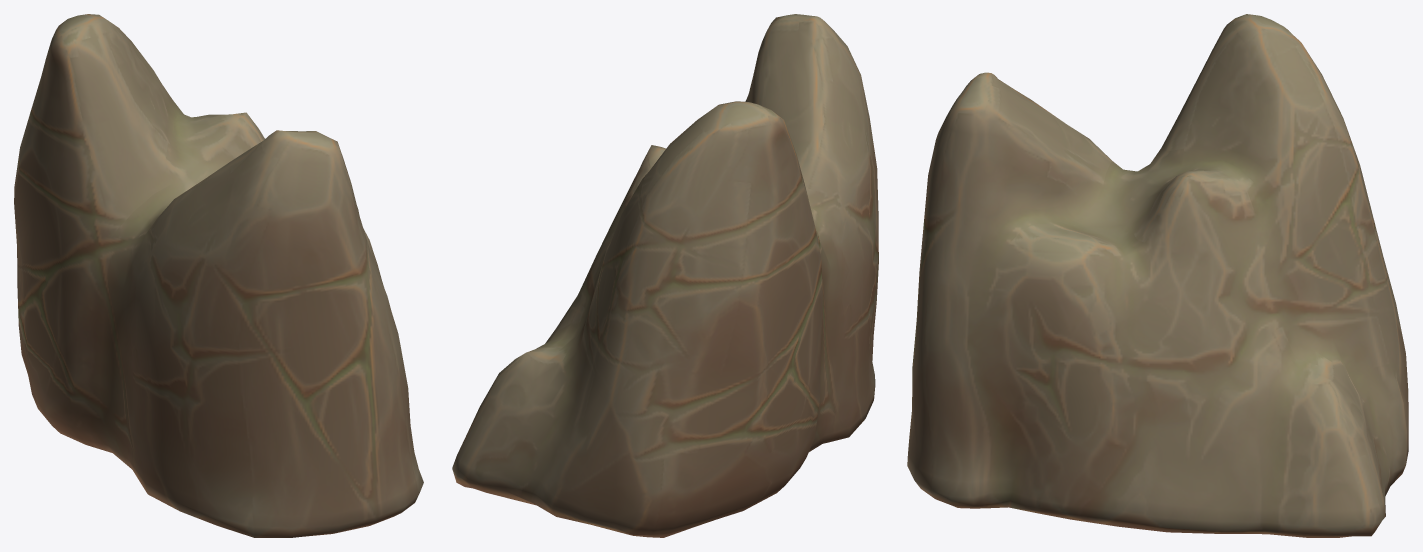
The model's file is rock_stylized.glb.
3 renders of one model, left to right at view 1: azimuth 30°, elevation 25°; view 2: azimuth 150°, elevation 25°; view 3: azimuth 270°, elevation 25°, orthographic. The views are drawn at different scales.
Parts seen in each view (by area): view 1: Object_2; view 2: Object_2; view 3: Object_2.
Part boxes in pixels (<box>): Object_2: <box>14,14,423,537</box>; Object_2: <box>452,14,878,537</box>; Object_2: <box>907,14,1408,537</box>.
Bounding box in the file's own units: 1.46 × 1.94 × 2.15.
1 material, 1 textured.
